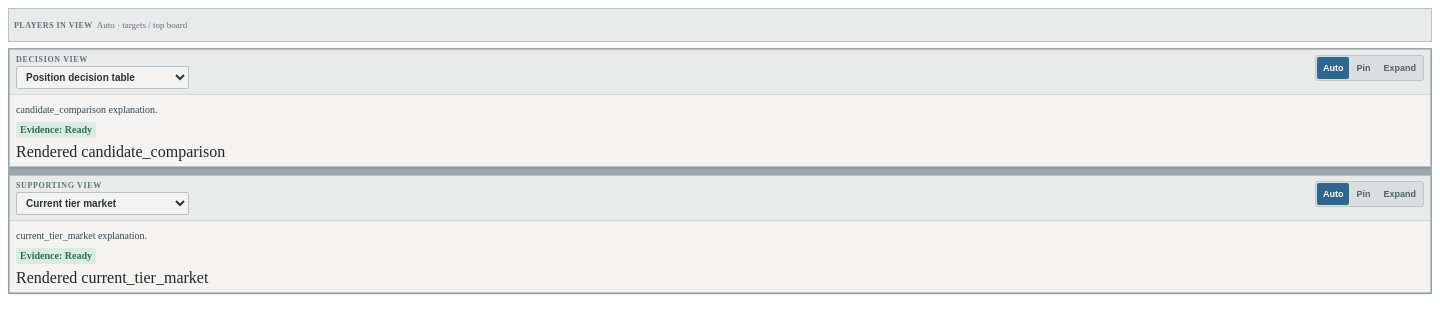
it: InsightDeck › expands one view to both rows and restores the split layout
This screenshot has width=1440, height=312.
Click the button with aria-label "Expand Position decision table" at {"x": 1400, "y": 68}, box [1378,57,1422,79]
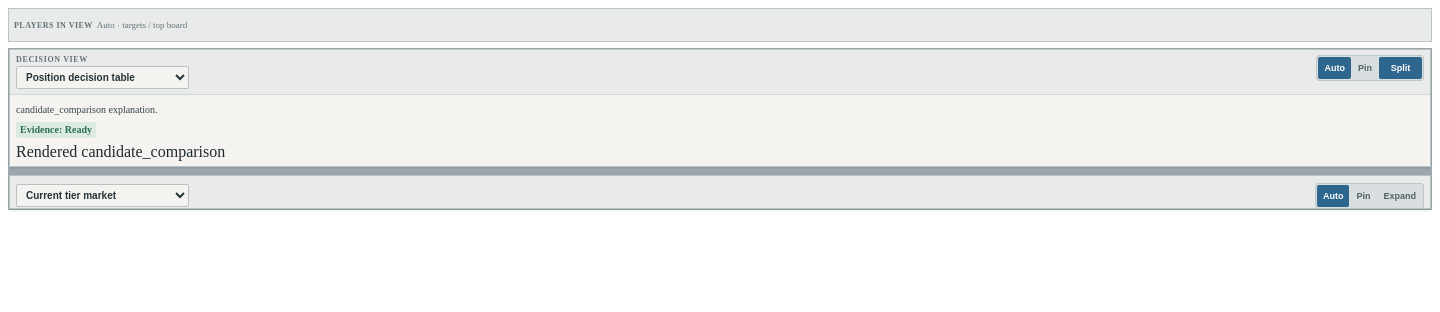
Now the text with test id "rendered-current_tier_market" is gone
Click the button with aria-label "Restore two insight views from Position decision table" at {"x": 1400, "y": 68}, box [1379,57,1422,79]
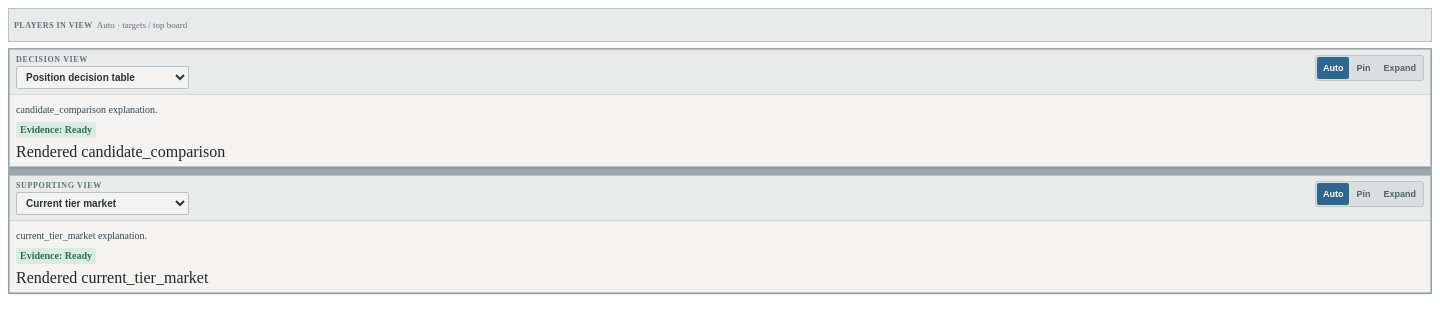
Now the text "Rendered current_tier_market" is shown, box [16,269,208,286]
